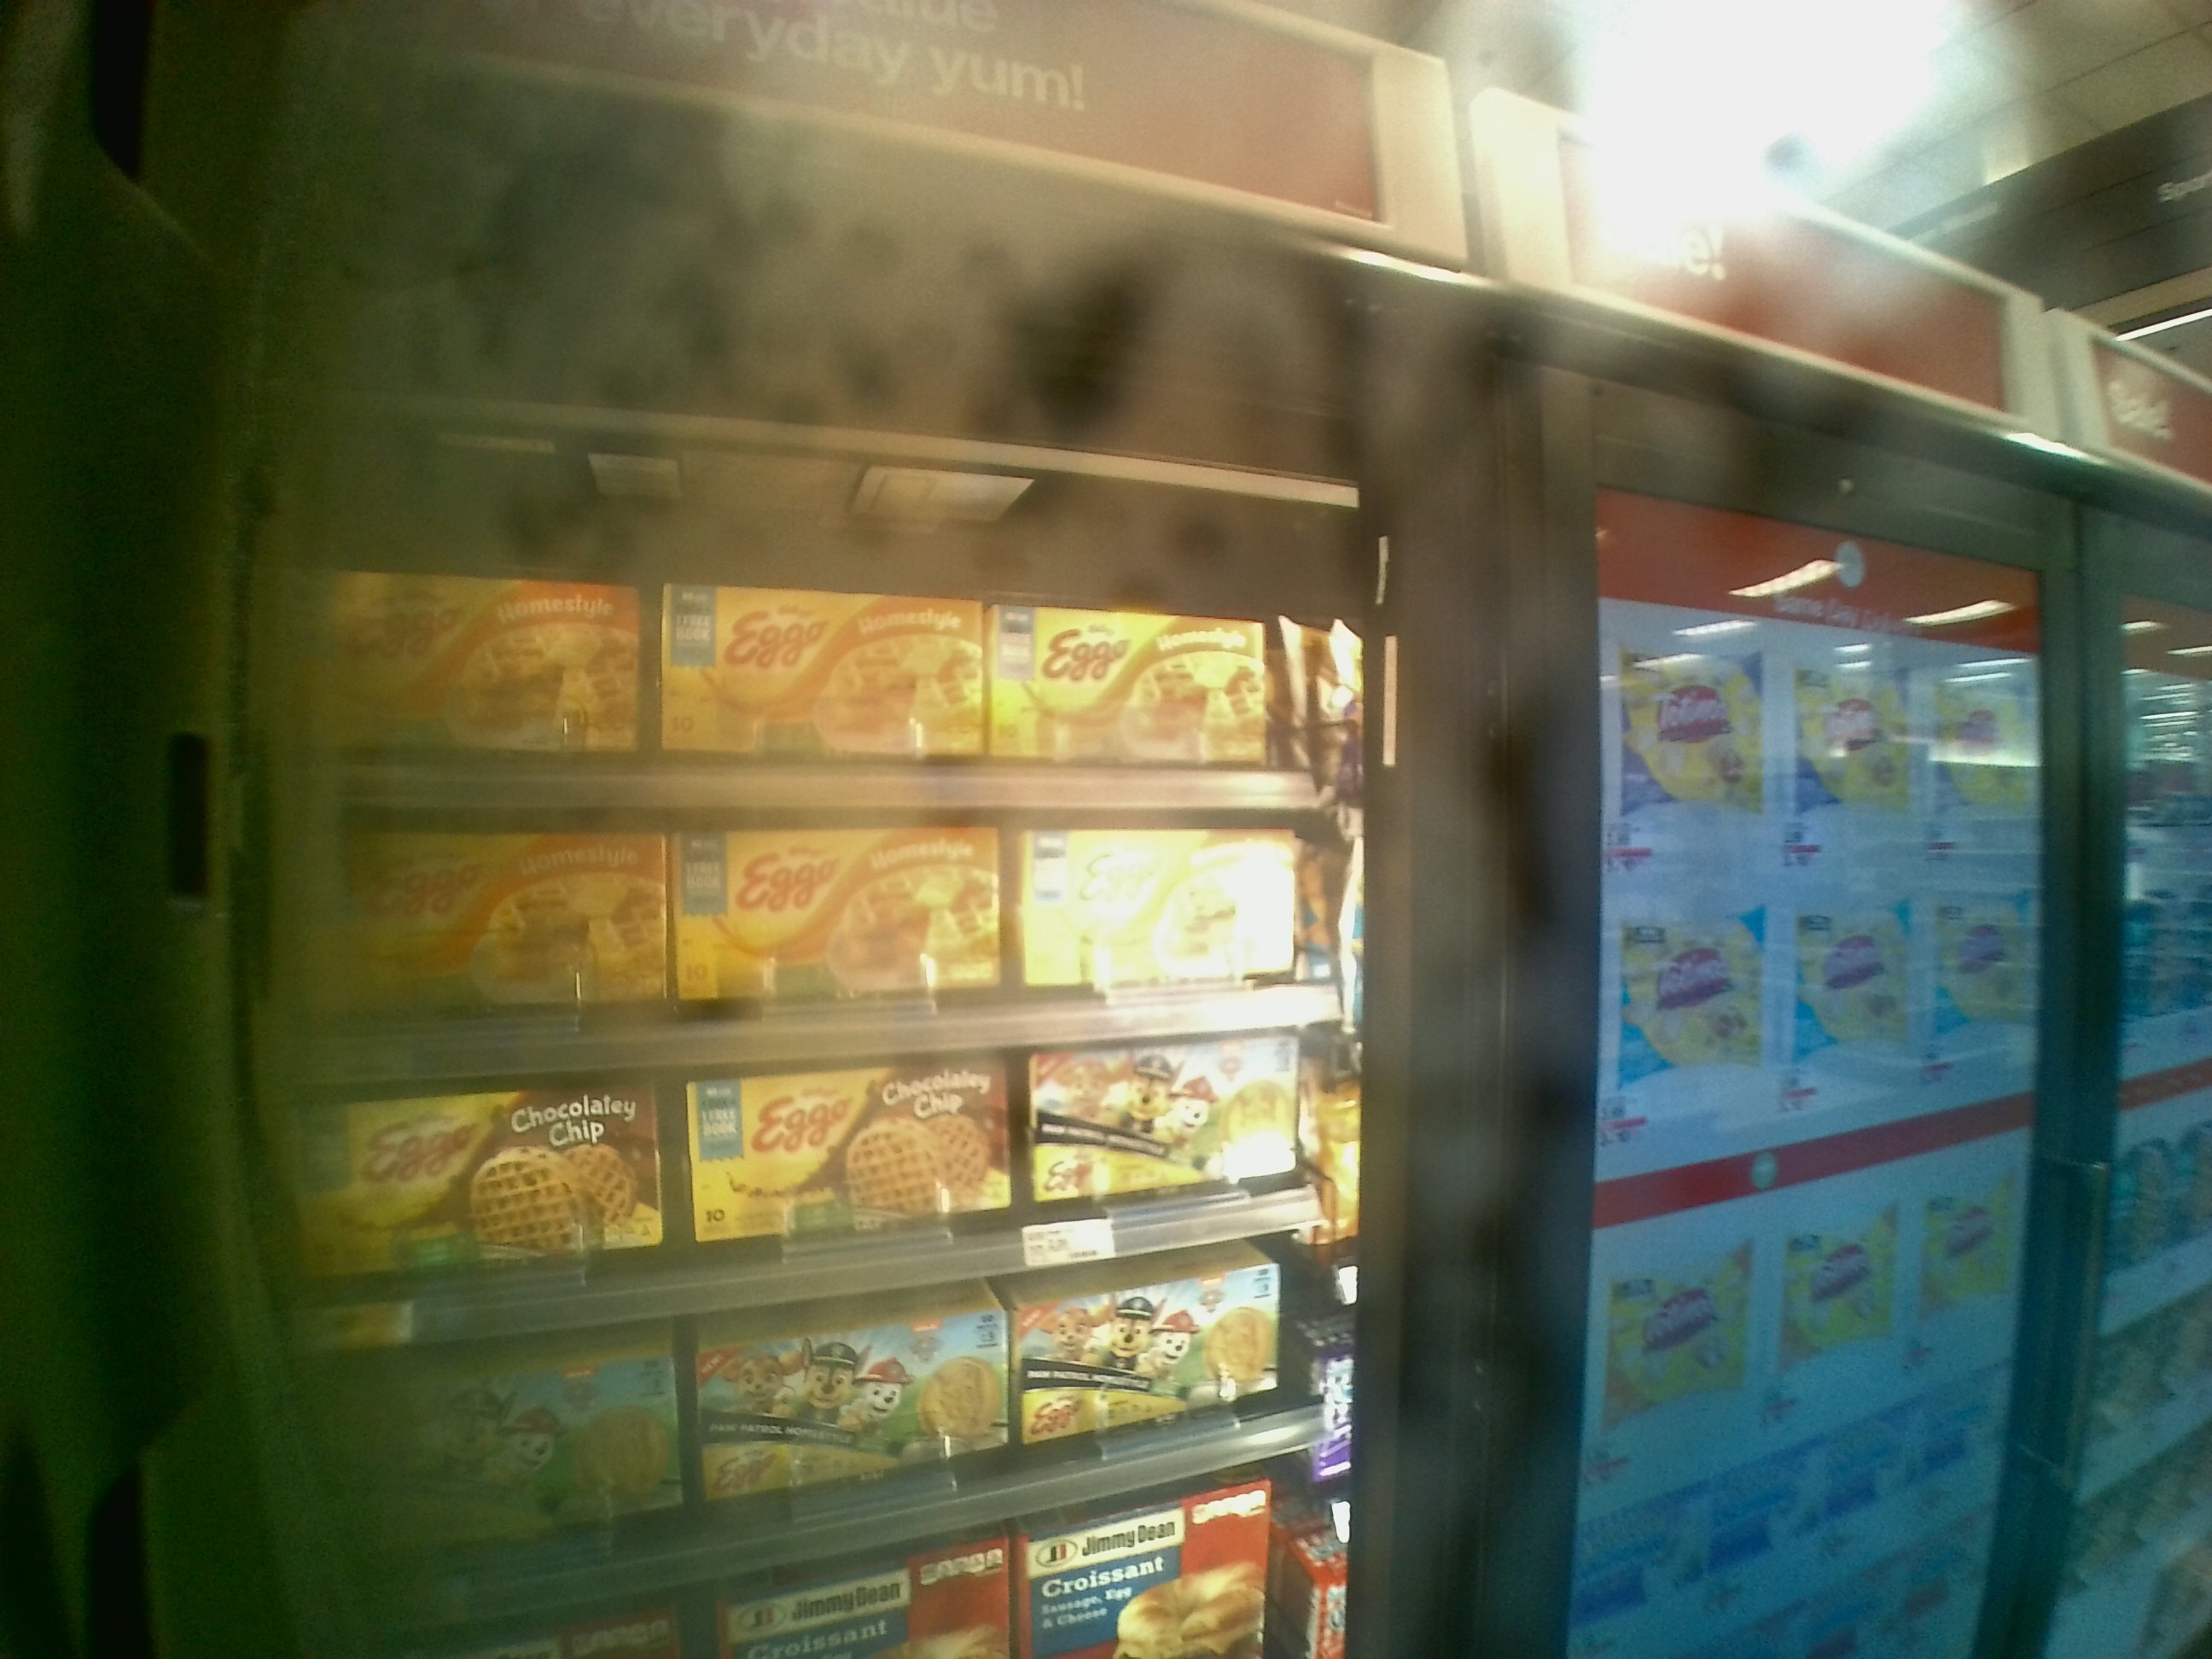shelf: (277, 1030, 1346, 1351), (284, 533, 1362, 823), (280, 817, 1372, 1070)
